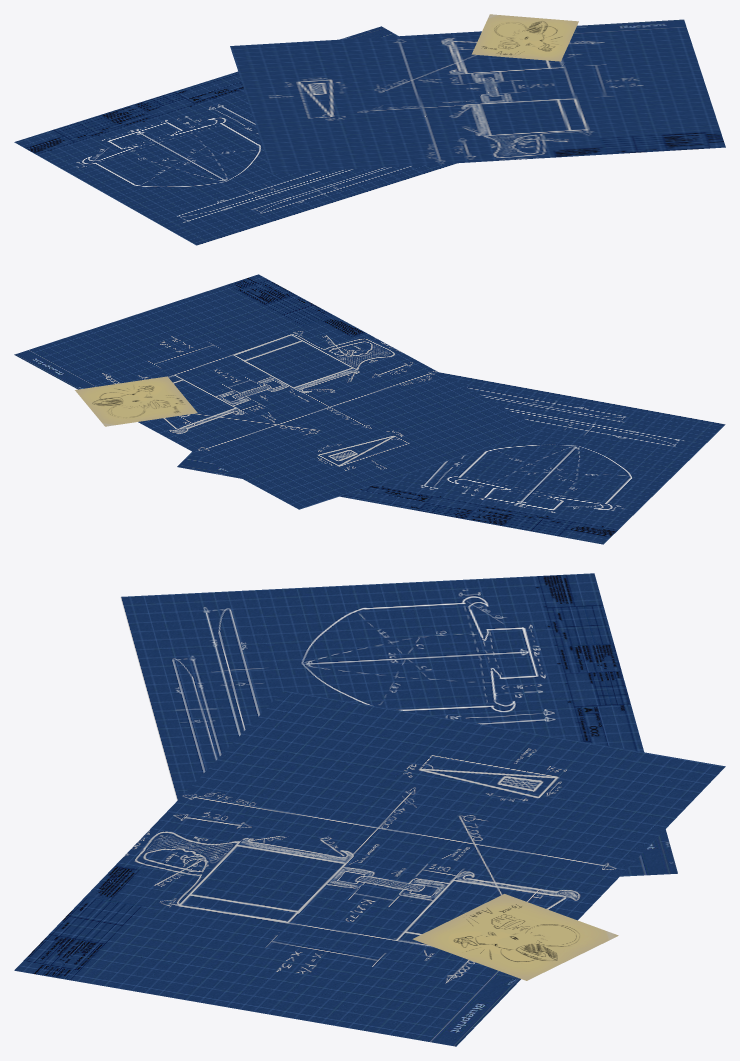
The model's file is bluePrints.fbx.
The picture shows the model from 3 angles, top to bottom: view 1: azimuth 30°, elevation 25°; view 2: azimuth 150°, elevation 25°; view 3: azimuth 270°, elevation 25°; orthographic projection. The views are drawn at different scales.
Parts seen in each view (by area): view 1: Coisas Mesa; view 2: Coisas Mesa; view 3: Coisas Mesa.
Boxes of the visible parts, <box> form: Coisas Mesa: <box>14,14,725,245</box>; Coisas Mesa: <box>14,274,725,544</box>; Coisas Mesa: <box>14,573,725,1046</box>.
Bounding box in the file's own units: 1384 × 8.58 × 873.
